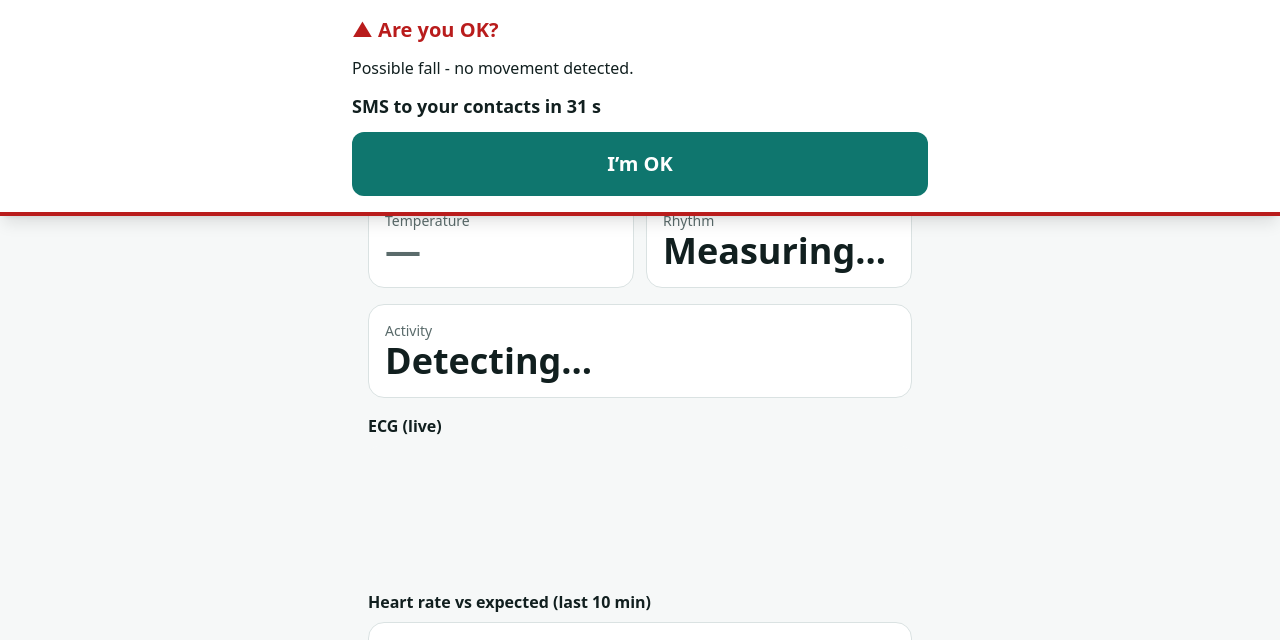
Test: first launch to live dashboard › shows the countdown banner with a working I'm OK button
Expected: the heading "Live" is shown, [368, 16, 417, 48]
Expected: the text "Possible fall - no movement detected." is shown, [352, 57, 634, 79]
Click the button "I’m OK" at (640, 164), box [352, 132, 928, 196]
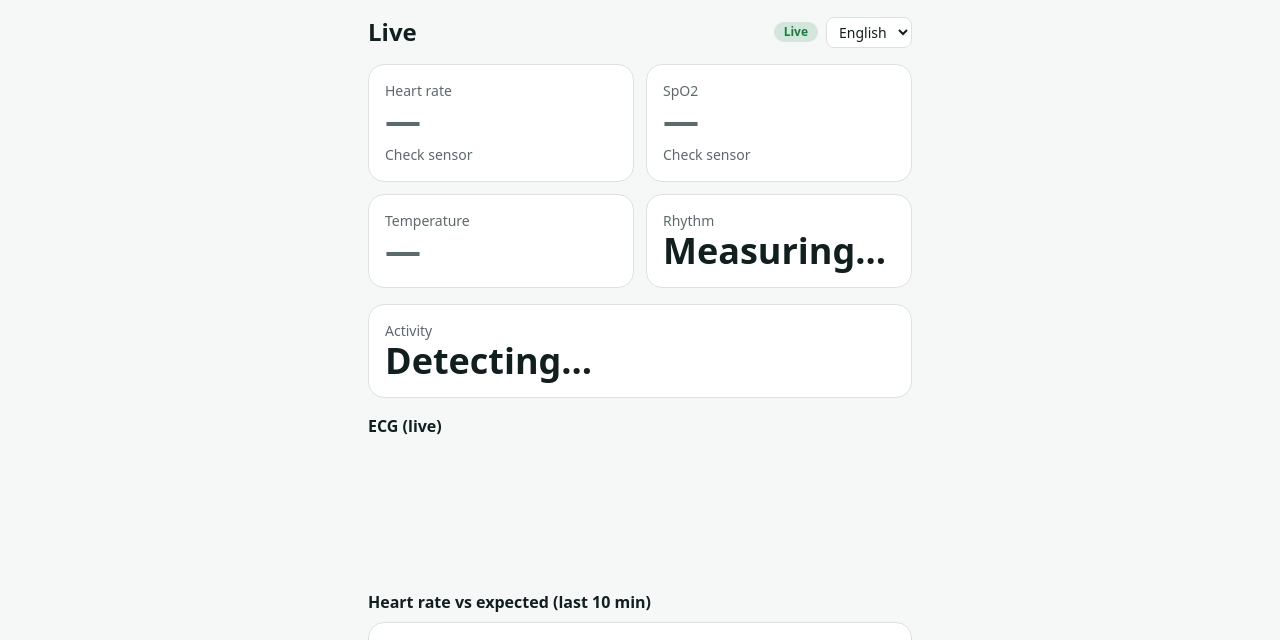
Expected: the dialog is gone
